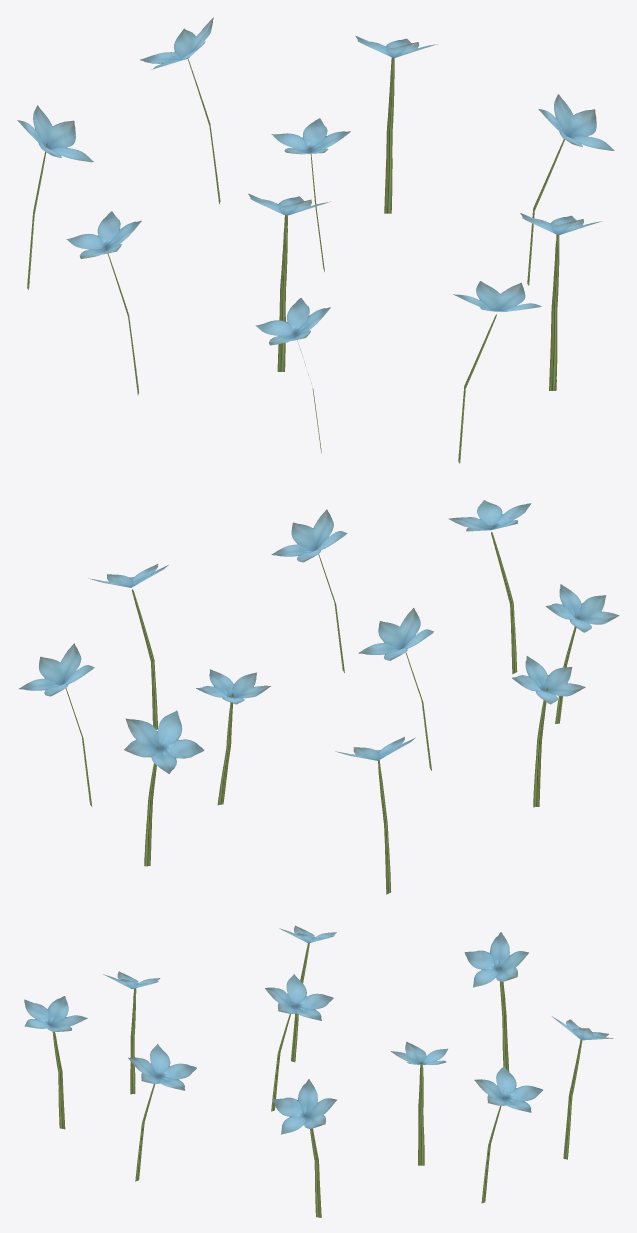
File: SM_Ground_Blue_Flower_D.fbx
The picture shows the model from 3 angles, top to bottom: view 1: azimuth 30°, elevation 25°; view 2: azimuth 150°, elevation 25°; view 3: azimuth 270°, elevation 25°; orthographic projection. The views are drawn at different scales.
Visible parts, largest first — view 1: SM_Ground_Blue_Flower_D_LOD0; view 2: SM_Ground_Blue_Flower_D_LOD0; view 3: SM_Ground_Blue_Flower_D_LOD0.
Boxes of the visible parts, bbox=[...] form: SM_Ground_Blue_Flower_D_LOD0: bbox=[17, 17, 614, 463]; SM_Ground_Blue_Flower_D_LOD0: bbox=[19, 500, 619, 894]; SM_Ground_Blue_Flower_D_LOD0: bbox=[24, 925, 613, 1217].
Size of the model in its own units: 78.96 by 96.71 by 25.38.
Materials: 1 (1 with a texture image).
